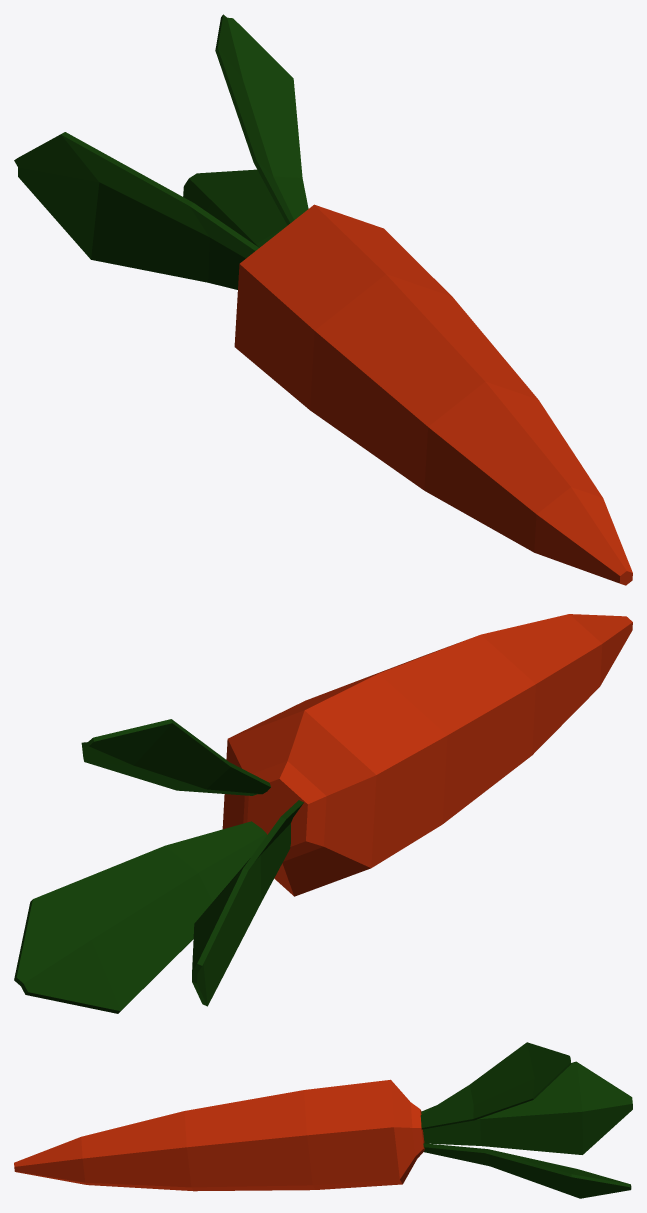
The picture shows the model from 3 angles, top to bottom: view 1: azimuth 30°, elevation 25°; view 2: azimuth 150°, elevation 25°; view 3: azimuth 270°, elevation 25°; orthographic projection. The views are drawn at different scales.
Parts seen in each view (by area): view 1: Carrot_Cylinder.008; view 2: Carrot_Cylinder.008; view 3: Carrot_Cylinder.008.
Part boxes in pixels (left/top/right/bottom): Carrot_Cylinder.008: left=14, top=14, right=632, bottom=585; Carrot_Cylinder.008: left=14, top=614, right=632, bottom=1013; Carrot_Cylinder.008: left=14, top=1042, right=632, bottom=1198.
Bounding box in the file's own units: 2.12 × 2.39 × 8.69.
1 material, 1 textured.
